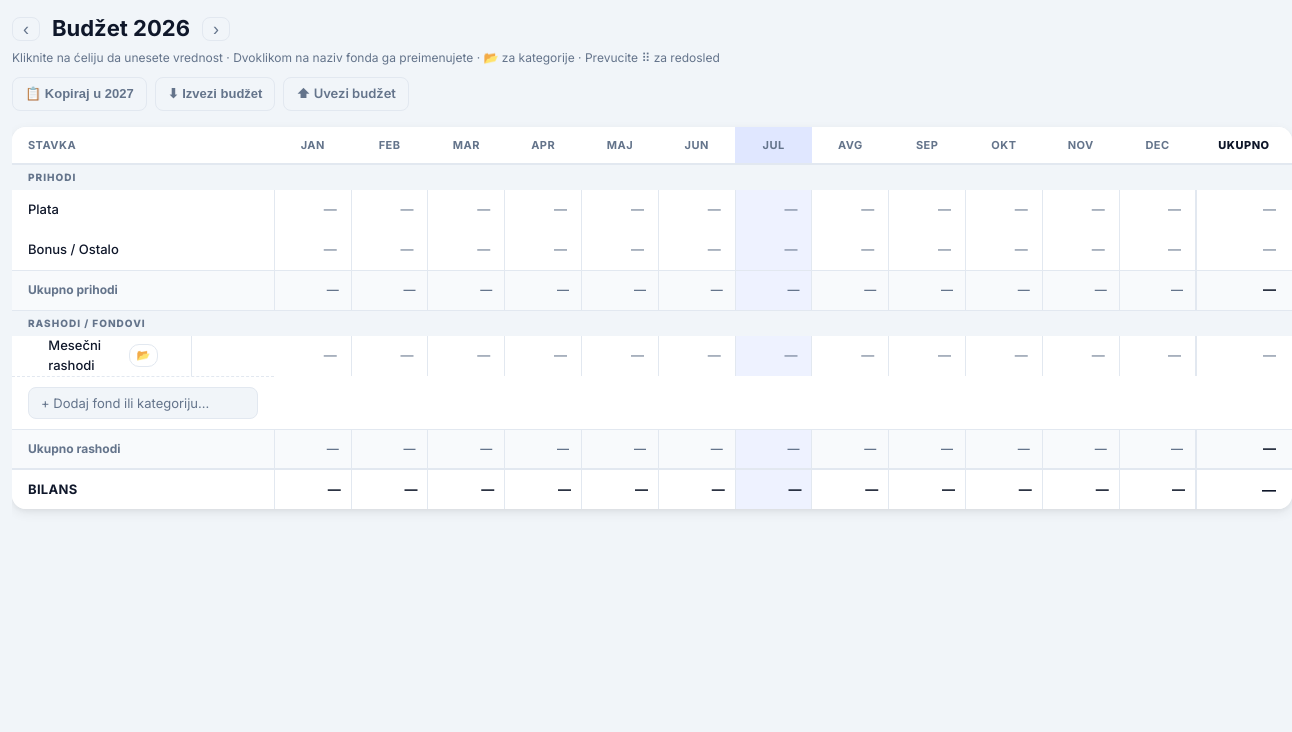
BudgetView — inline tracking panel › clicking chip opens the panel and shows all category pills
Click the button titled "Kategorije troškova za ovaj fond". click: (143, 356)
box: [128,344,158,367]
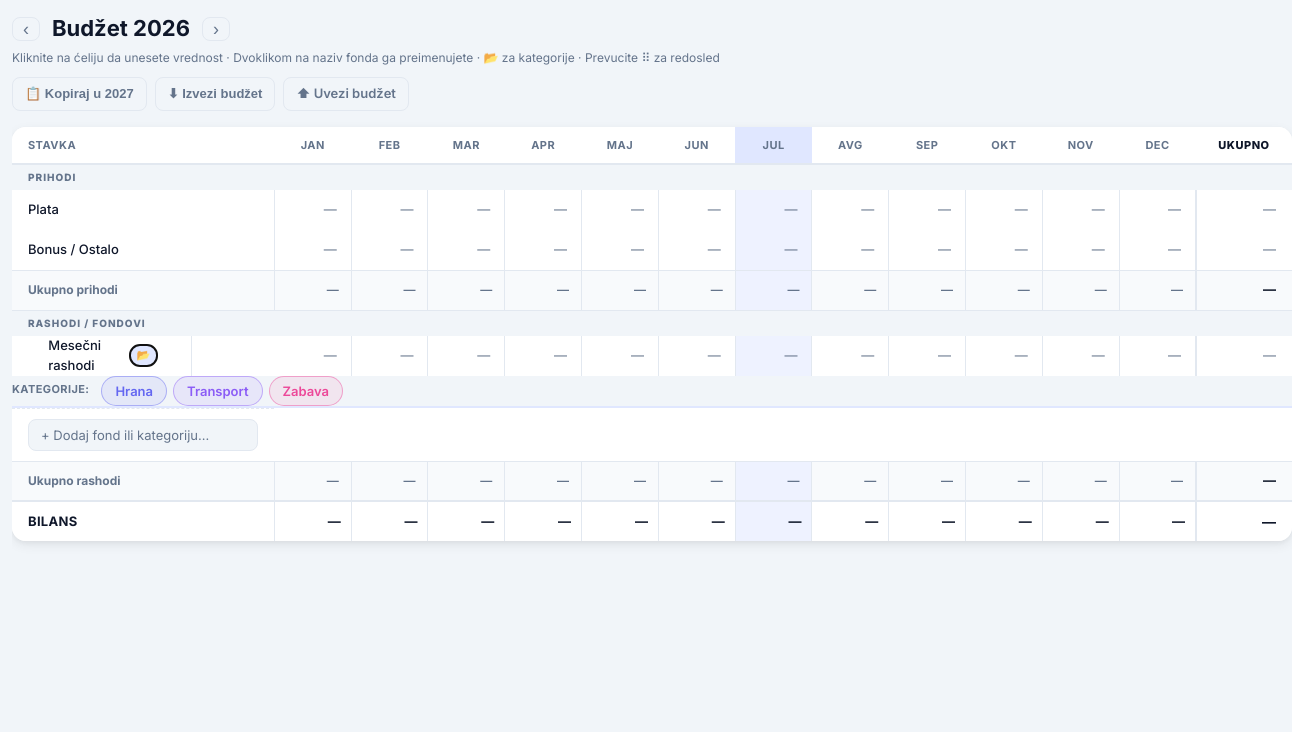
Expected: the button "Hrana" is shown, [101,376,167,406]
Expected: the button "Transport" is shown, [173,376,262,406]
Expected: the button "Zabava" is shown, [268,376,343,406]
